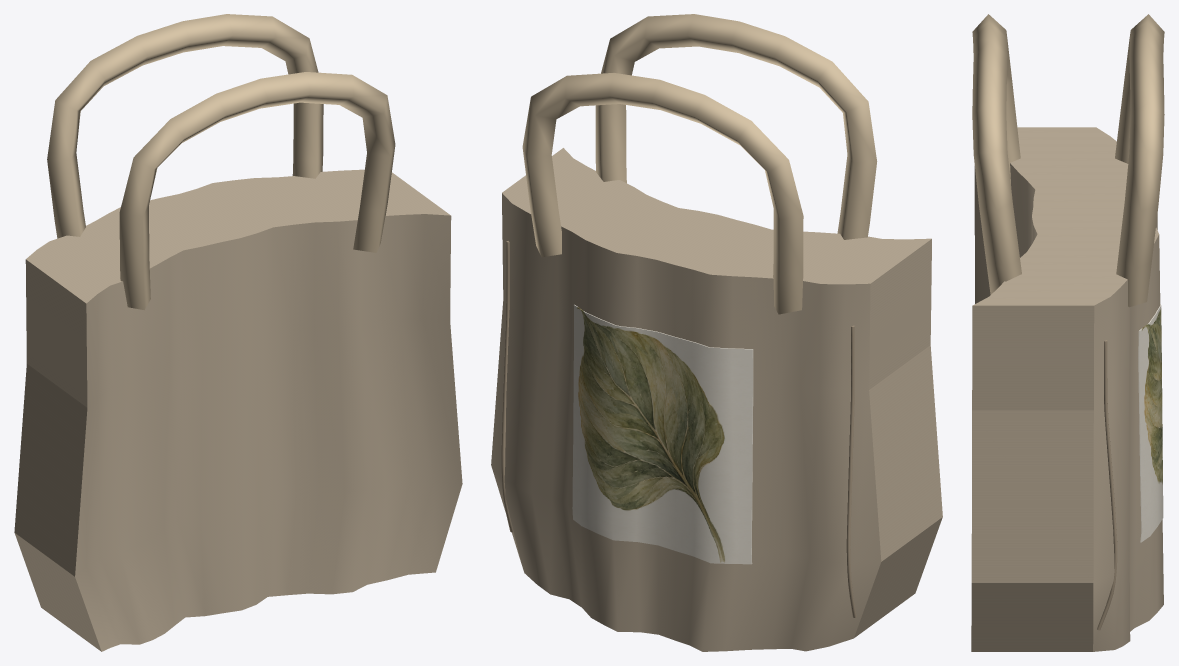
File: product-off.tote.glb
The picture shows the model from 3 angles, left to right: view 1: azimuth 30°, elevation 25°; view 2: azimuth 150°, elevation 25°; view 3: azimuth 270°, elevation 25°; orthographic projection.
Visible parts, largest first — view 1: product-off.tote; view 2: product-off.tote; view 3: product-off.tote.
Part boxes in pixels (bbox=[...]): product-off.tote: bbox=[14, 14, 462, 651]; product-off.tote: bbox=[491, 14, 942, 651]; product-off.tote: bbox=[971, 14, 1164, 651].
Bounding box in the file's own units: 0.316 × 0.427 × 0.1365.
Materials: 4 (4 with a texture image).
